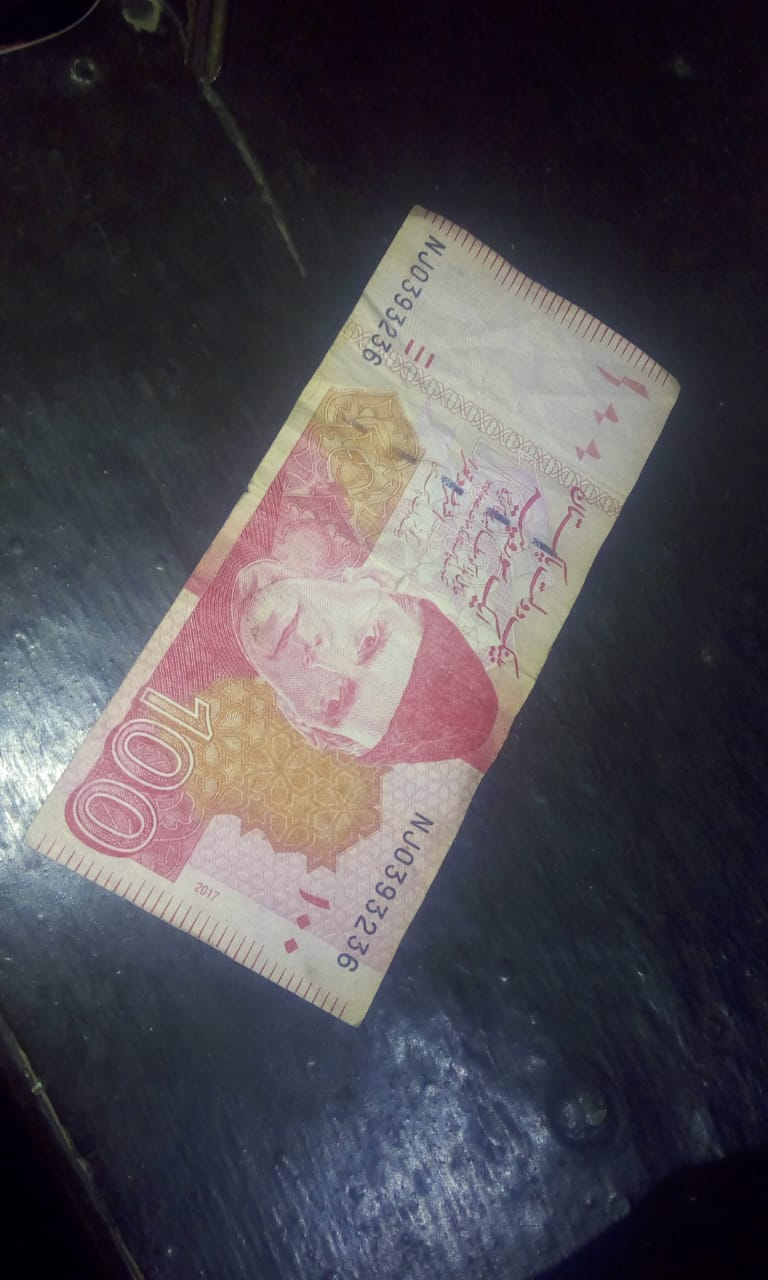100 rupee: (0, 204, 697, 1043)
